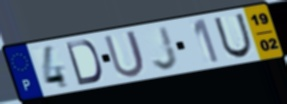1: (190, 17, 221, 66)
4: (39, 44, 72, 90)
D: (64, 38, 104, 87)
J: (151, 24, 181, 72)
U: (101, 28, 147, 79), (212, 12, 255, 60)
